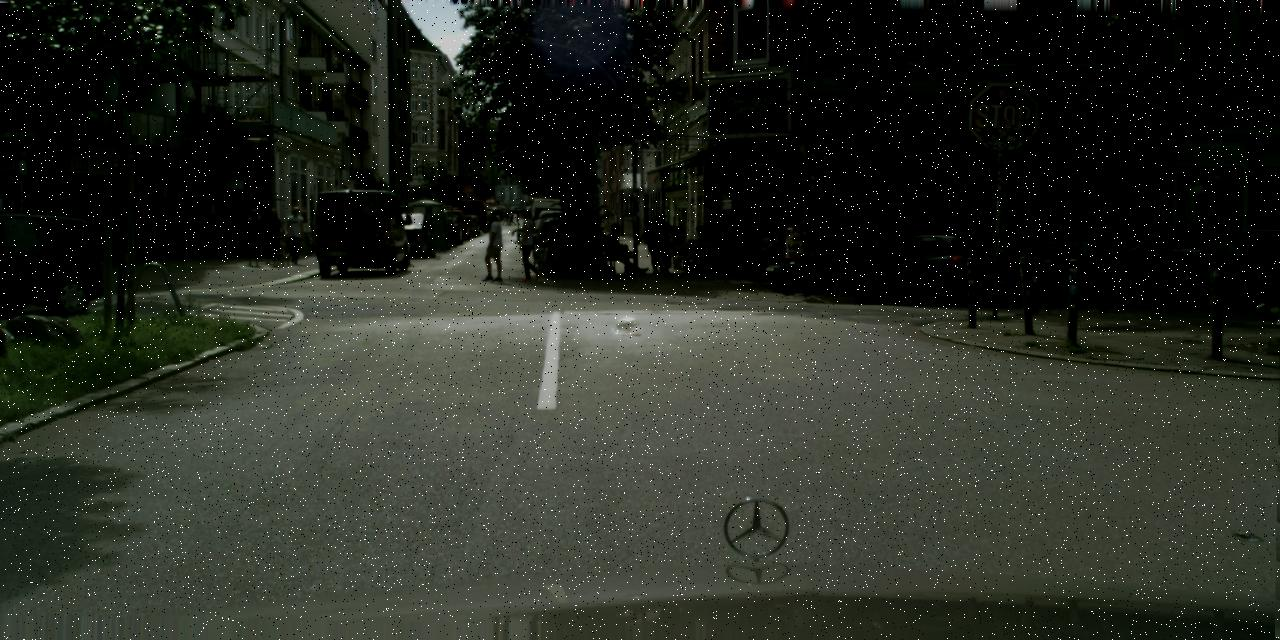ped: (514, 208, 543, 280), (478, 210, 506, 281), (803, 207, 828, 271), (772, 190, 797, 252), (262, 208, 287, 266), (256, 203, 280, 263), (282, 205, 306, 262), (650, 215, 674, 272), (242, 209, 265, 266), (606, 224, 632, 274), (644, 217, 666, 270), (696, 220, 720, 240), (674, 224, 686, 238), (502, 210, 511, 227), (514, 210, 520, 225), (509, 211, 514, 225), (640, 267, 649, 274), (511, 223, 515, 226), (672, 242, 673, 252)
